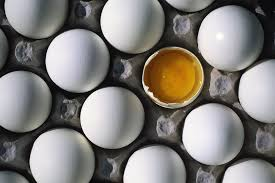eggs: (96, 2, 175, 56), (199, 10, 262, 76), (47, 28, 107, 89), (83, 81, 139, 144), (182, 107, 246, 160), (3, 67, 51, 131), (35, 130, 91, 183), (128, 137, 187, 183), (239, 53, 275, 121), (0, 0, 71, 32)
